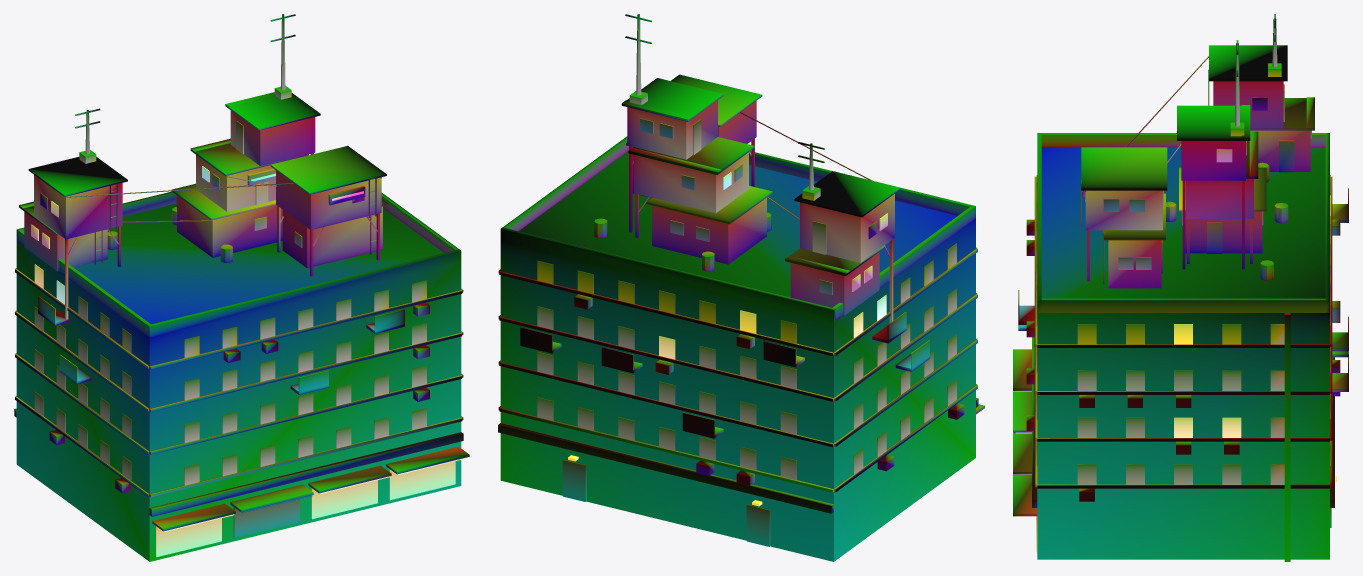
Rendered from Slum_Low_V6.fbx.
The picture shows the model from 3 angles, left to right: view 1: azimuth 30°, elevation 25°; view 2: azimuth 150°, elevation 25°; view 3: azimuth 270°, elevation 25°; orthographic projection. The views are drawn at different scales.
Parts seen in each view (by area): view 1: Slum_Low_V6_LOD0; view 2: Slum_Low_V6_LOD0; view 3: Slum_Low_V6_LOD0.
Boxes of the visible parts, x1=… form: Slum_Low_V6_LOD0: x1=14, y1=14, x2=469, y2=561; Slum_Low_V6_LOD0: x1=498, y1=14, x2=984, y2=561; Slum_Low_V6_LOD0: x1=1013, y1=14, x2=1348, y2=561.
Size of what is drawn, in the model's own units: 24.71 by 30.07 by 19.5.
